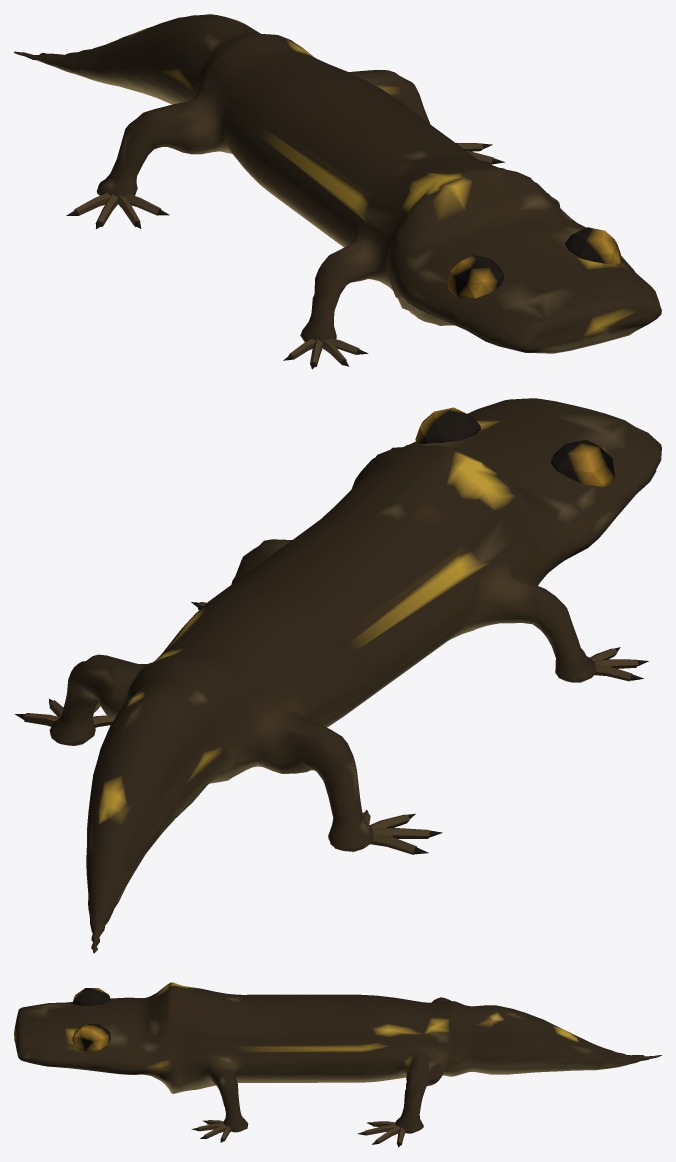
File: Amphibamus.fbx
3 renders of one model, top to bottom at view 1: azimuth 30°, elevation 25°; view 2: azimuth 150°, elevation 25°; view 3: azimuth 270°, elevation 25°, orthographic. The views are drawn at different scales.
Visible parts, largest first — view 1: Amphibamus; view 2: Amphibamus; view 3: Amphibamus.
Boxes of the visible parts, x1,y1,x2,y2 form: Amphibamus: (14,14,661,369); Amphibamus: (15,398,661,953); Amphibamus: (14,982,661,1147).
Size of the model in its own units: 0.3689 by 0.1393 by 0.8162.
